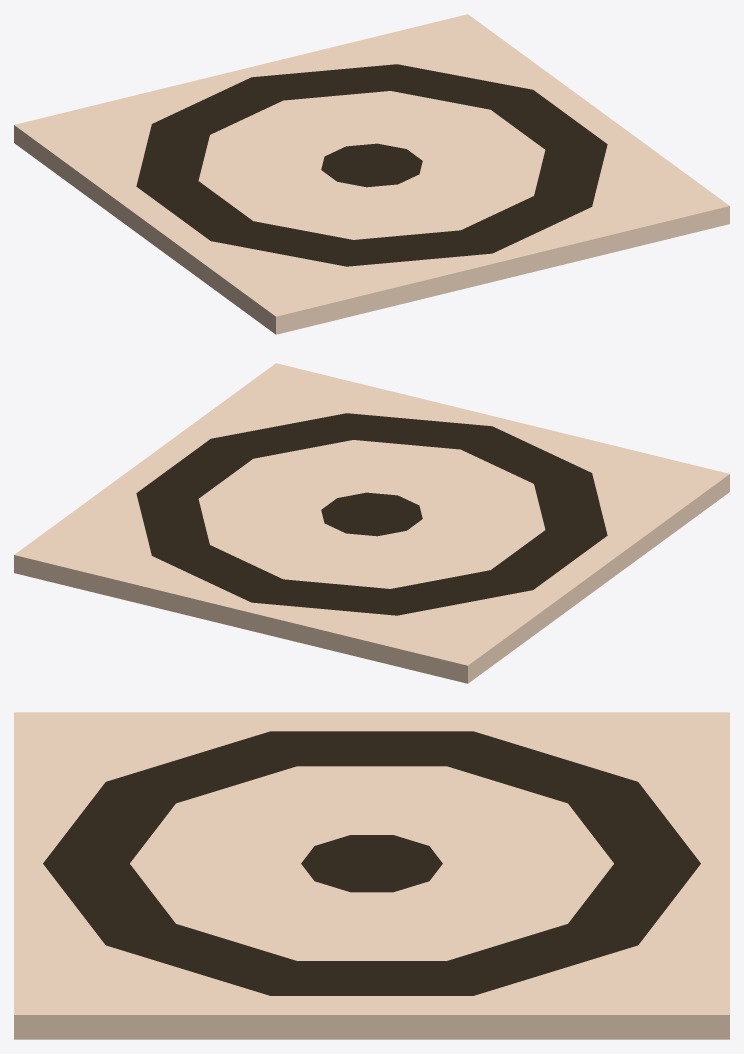
The model's file is Abstract_Castle_Block_0.25_Unit_Beige_Switch_01.fbx.
The picture shows the model from 3 angles, top to bottom: view 1: azimuth 30°, elevation 25°; view 2: azimuth 150°, elevation 25°; view 3: azimuth 270°, elevation 25°; orthographic projection. The views are drawn at different scales.
Parts seen in each view (by area): view 1: Abstract_Castle_Block_0_25_Unit_Beige_Switch_01; view 2: Abstract_Castle_Block_0_25_Unit_Beige_Switch_01; view 3: Abstract_Castle_Block_0_25_Unit_Beige_Switch_01.
Boxes of the visible parts, x1=… form: Abstract_Castle_Block_0_25_Unit_Beige_Switch_01: x1=14, y1=14, x2=729, y2=334; Abstract_Castle_Block_0_25_Unit_Beige_Switch_01: x1=14, y1=363, x2=729, y2=683; Abstract_Castle_Block_0_25_Unit_Beige_Switch_01: x1=14, y1=712, x2=729, y2=1039.
Bounding box in the file's own units: 73.82 × 2.81 × 73.82.
